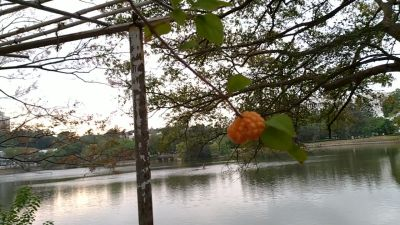eggs: (227, 109, 267, 144)
